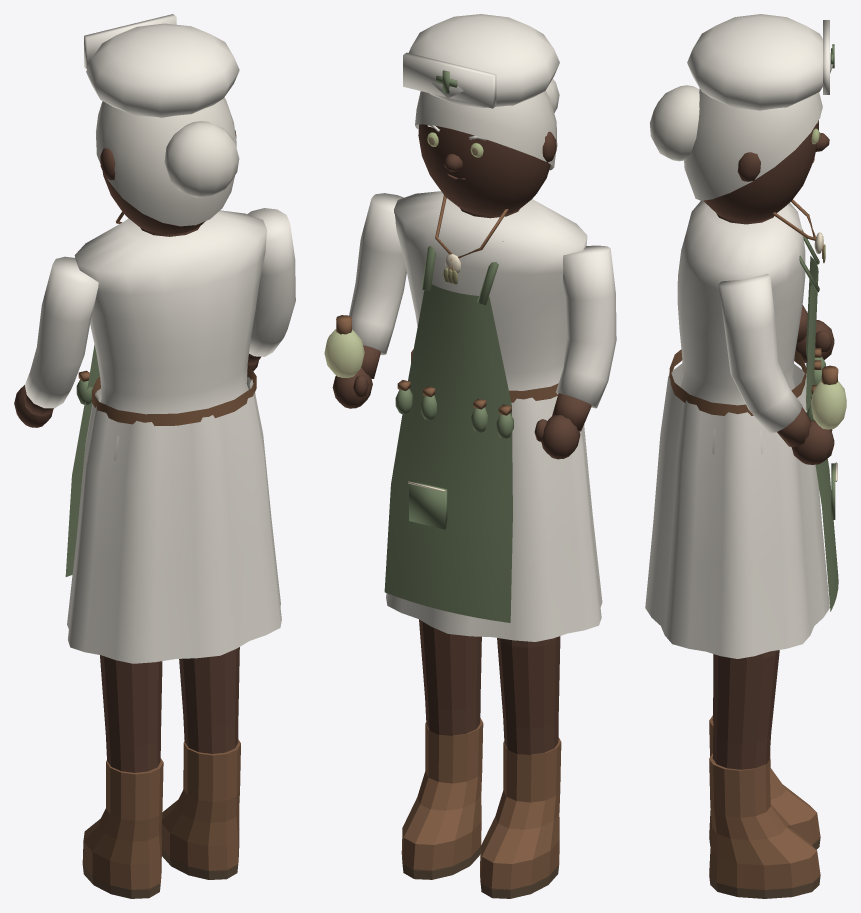
Rendered from SM_NPC_NANA.glb.
3 renders of one model, left to right at view 1: azimuth 30°, elevation 25°; view 2: azimuth 150°, elevation 25°; view 3: azimuth 270°, elevation 25°, orthographic.
Visible parts, largest first — view 1: SM_NPC_NANA_BODY, SM_NPC_NANA_HAIR, SM_NPC_NANA_LEG_L, SM_NPC_NANA_LEG_R, SM_NPC_NANA_ARM_L, SM_NPC_NANA_ARM_R, SM_NPC_NANA_HEAD; view 2: SM_NPC_NANA_BODY, SM_NPC_NANA_HAIR, SM_NPC_NANA_LEG_L, SM_NPC_NANA_LEG_R, SM_NPC_NANA_ARM_L, SM_NPC_NANA_ARM_R, SM_NPC_NANA_HEAD; view 3: SM_NPC_NANA_BODY, SM_NPC_NANA_HAIR, SM_NPC_NANA_LEG_R, SM_NPC_NANA_ARM_R, SM_NPC_NANA_HEAD, SM_NPC_NANA_LEG_L, SM_NPC_NANA_ARM_L.
Part boxes in pixels (bbox=[...]): SM_NPC_NANA_BODY: bbox=[65, 210, 281, 663]; SM_NPC_NANA_HAIR: bbox=[84, 14, 239, 226]; SM_NPC_NANA_LEG_L: bbox=[82, 655, 163, 898]; SM_NPC_NANA_LEG_R: bbox=[161, 647, 240, 879]; SM_NPC_NANA_ARM_L: bbox=[14, 256, 98, 427]; SM_NPC_NANA_ARM_R: bbox=[247, 208, 295, 370]; SM_NPC_NANA_HEAD: bbox=[100, 130, 236, 234]; SM_NPC_NANA_BODY: bbox=[384, 191, 602, 641]; SM_NPC_NANA_HAIR: bbox=[403, 14, 559, 170]; SM_NPC_NANA_LEG_L: bbox=[480, 636, 561, 898]; SM_NPC_NANA_LEG_R: bbox=[401, 619, 483, 879]; SM_NPC_NANA_ARM_L: bbox=[534, 245, 616, 459]; SM_NPC_NANA_ARM_R: bbox=[324, 193, 406, 408]; SM_NPC_NANA_HEAD: bbox=[418, 124, 556, 215]; SM_NPC_NANA_BODY: bbox=[645, 199, 838, 658]; SM_NPC_NANA_HAIR: bbox=[649, 14, 834, 200]; SM_NPC_NANA_LEG_R: bbox=[709, 650, 820, 898]; SM_NPC_NANA_ARM_R: bbox=[718, 274, 846, 464]; SM_NPC_NANA_HEAD: bbox=[703, 120, 829, 222]; SM_NPC_NANA_LEG_L: bbox=[709, 654, 820, 849]; SM_NPC_NANA_ARM_L: bbox=[795, 305, 834, 363].
Bounding box in the file's own units: 0.5578 × 1.76 × 0.3829.
